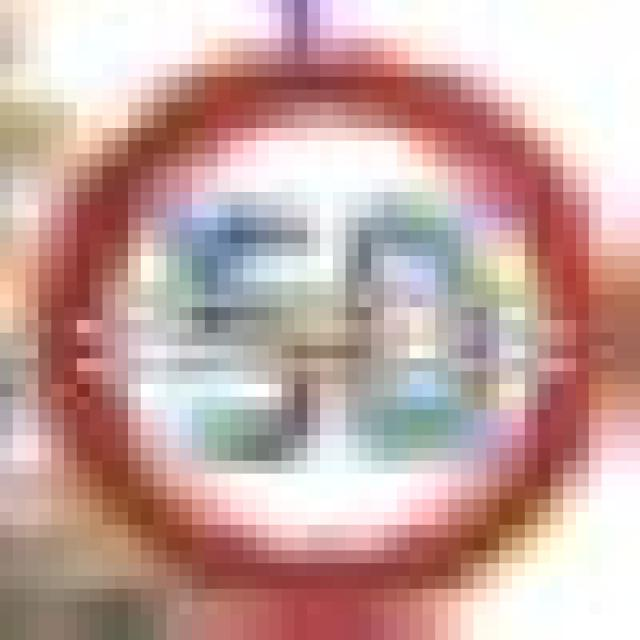speed_limit_30: (26, 51, 588, 576)
